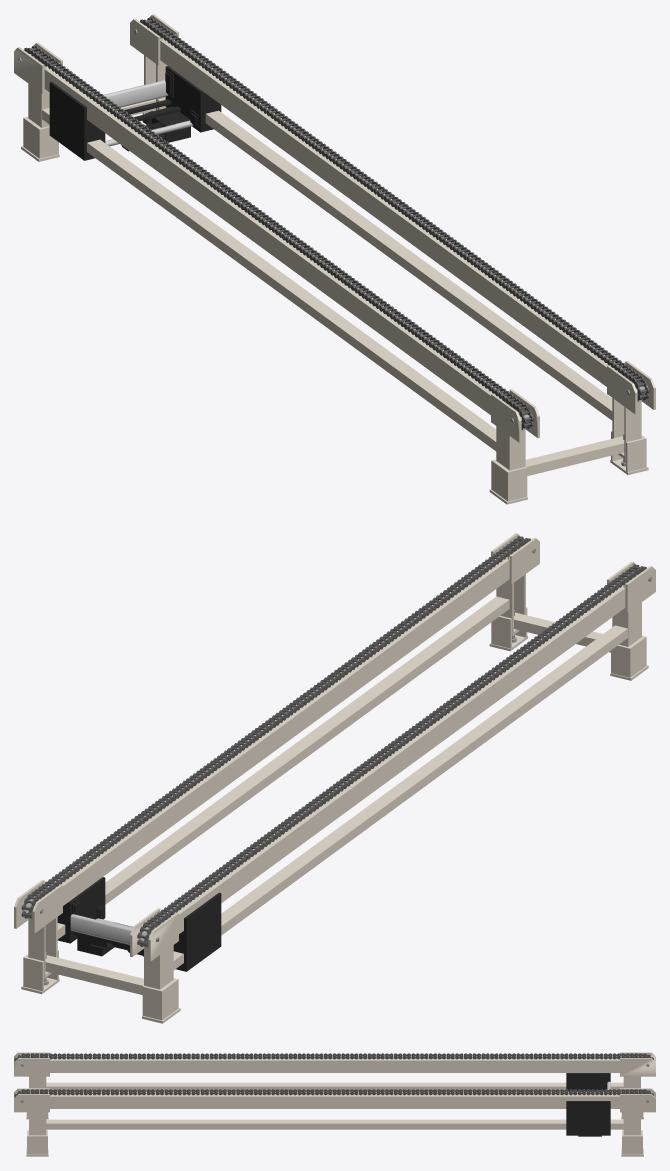
The model's file is chain-long.glb.
3 renders of one model, top to bottom at view 1: azimuth 30°, elevation 25°; view 2: azimuth 150°, elevation 25°; view 3: azimuth 270°, elevation 25°, orthographic. The views are drawn at different scales.
Parts seen in each view (by area): view 1: chain-long__三链机体009, chain-long__链条009, chain-long__电机009, chain-long__轴009__fixed; view 2: chain-long__三链机体009, chain-long__链条009, chain-long__电机009, chain-long__轴009__fixed; view 3: chain-long__三链机体009, chain-long__链条009, chain-long__电机009.
Part boxes in pixels (box(x1,y1,x2,y2)): chain-long__三链机体009: box(14, 14, 655, 504); chain-long__链条009: box(24, 17, 649, 429); chain-long__电机009: box(49, 66, 221, 160); chain-long__轴009__fixed: box(103, 80, 168, 107); chain-long__三链机体009: box(14, 533, 655, 1023); chain-long__链条009: box(21, 536, 646, 947); chain-long__电机009: box(57, 877, 221, 971); chain-long__轴009__fixed: box(70, 914, 132, 944); chain-long__三链机体009: box(14, 1052, 655, 1156); chain-long__链条009: box(14, 1053, 653, 1097); chain-long__电机009: box(566, 1073, 610, 1136).
Size of the model in its own units: 1.47 by 0.9711 by 9.1.
